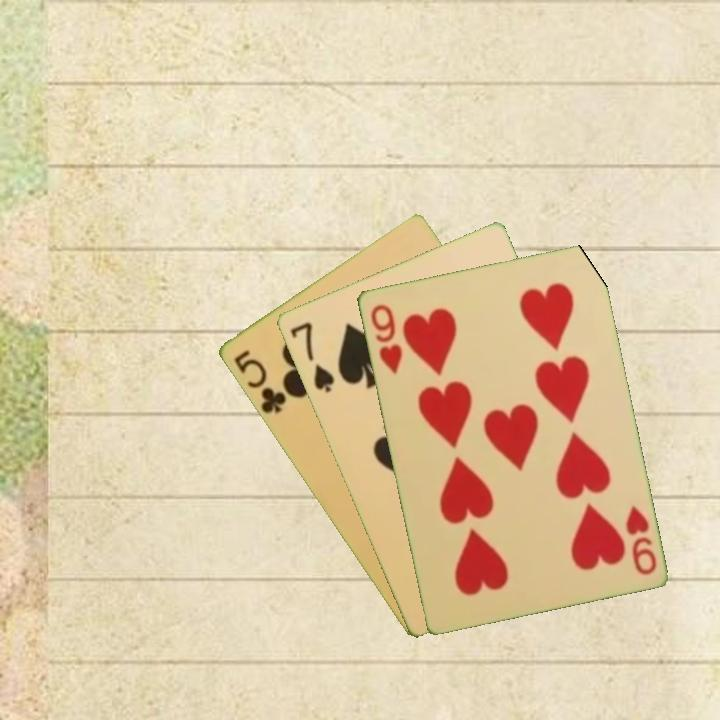5c: (229, 346, 289, 417)
7s: (286, 318, 337, 396)
9h: (366, 300, 405, 377), (621, 501, 659, 578)
